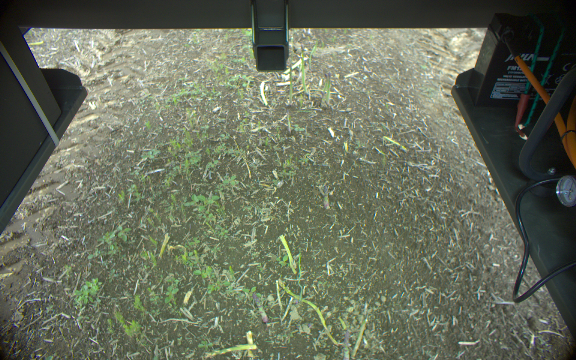aspa: (347, 321, 370, 360), (285, 57, 297, 110), (249, 292, 268, 324), (297, 49, 309, 96), (336, 327, 352, 360), (319, 182, 332, 212), (320, 71, 328, 105), (326, 70, 333, 108)
